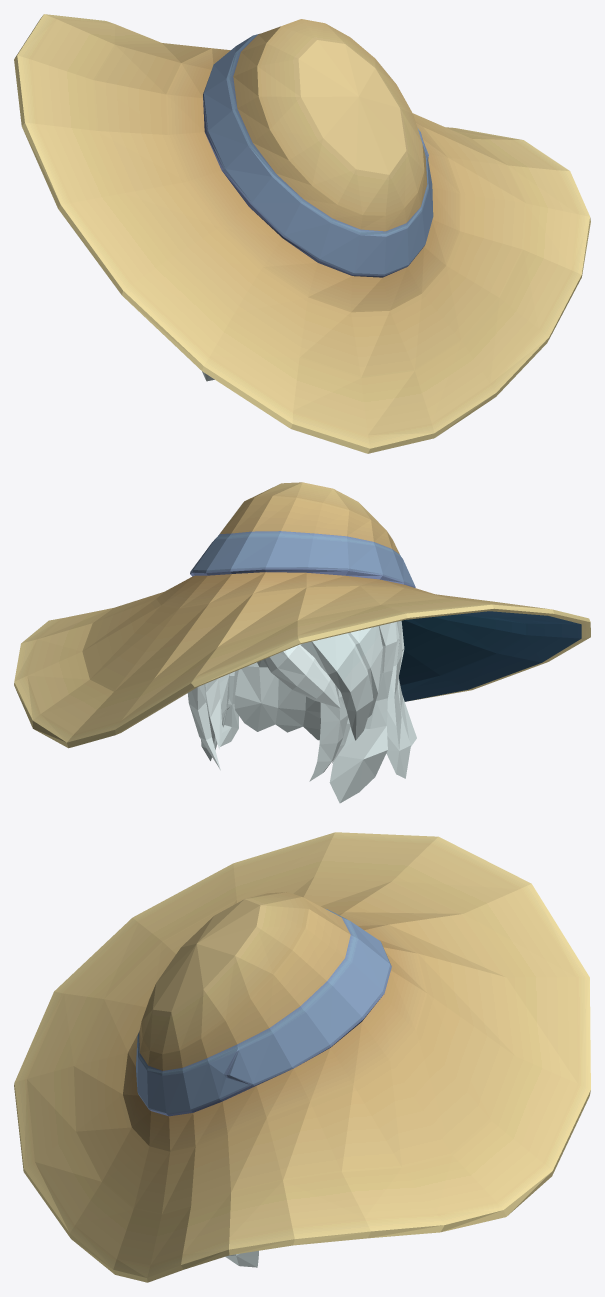
The model's file is CharSkyKid_Hair_AP03Victorian_01.glb.
3 views of the same model, one above another, from view 1: azimuth 30°, elevation 25°; view 2: azimuth 150°, elevation 25°; view 3: azimuth 270°, elevation 25° (orthographic). The views are drawn at different scales.
Visible parts, largest first — view 1: CharSkyKid_Hair_AP03Victorian_01; view 2: CharSkyKid_Hair_AP03Victorian_01; view 3: CharSkyKid_Hair_AP03Victorian_01.
Boxes of the visible parts, x1,y1,x2,y2 form: CharSkyKid_Hair_AP03Victorian_01: [14, 14, 590, 453]; CharSkyKid_Hair_AP03Victorian_01: [14, 482, 590, 803]; CharSkyKid_Hair_AP03Victorian_01: [14, 832, 590, 1282].
Bounding box in the file's own units: 6.94 × 4.11 × 6.53.
Materials: 1 (1 with a texture image).
